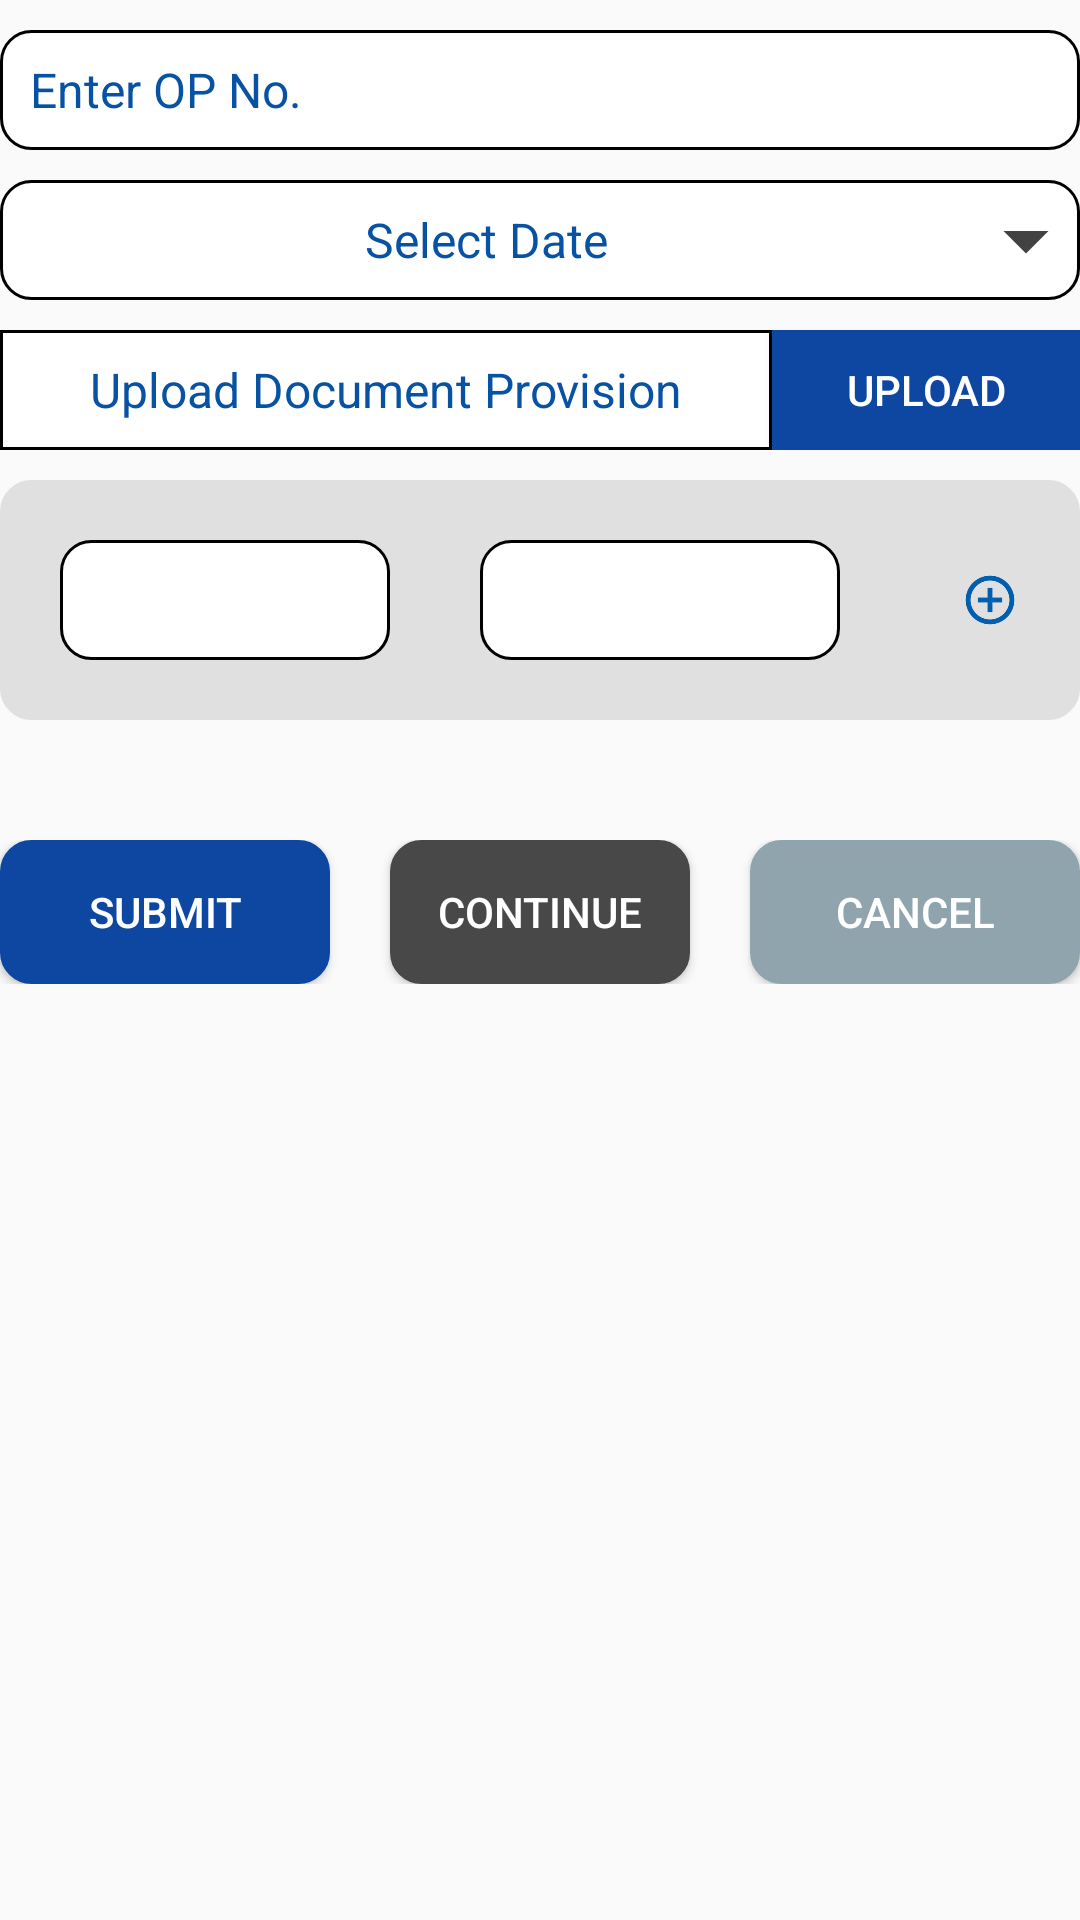

Icons on this 1080px×1920px Android screen, each with the point to tap as (x,y):
add: (990,600)
